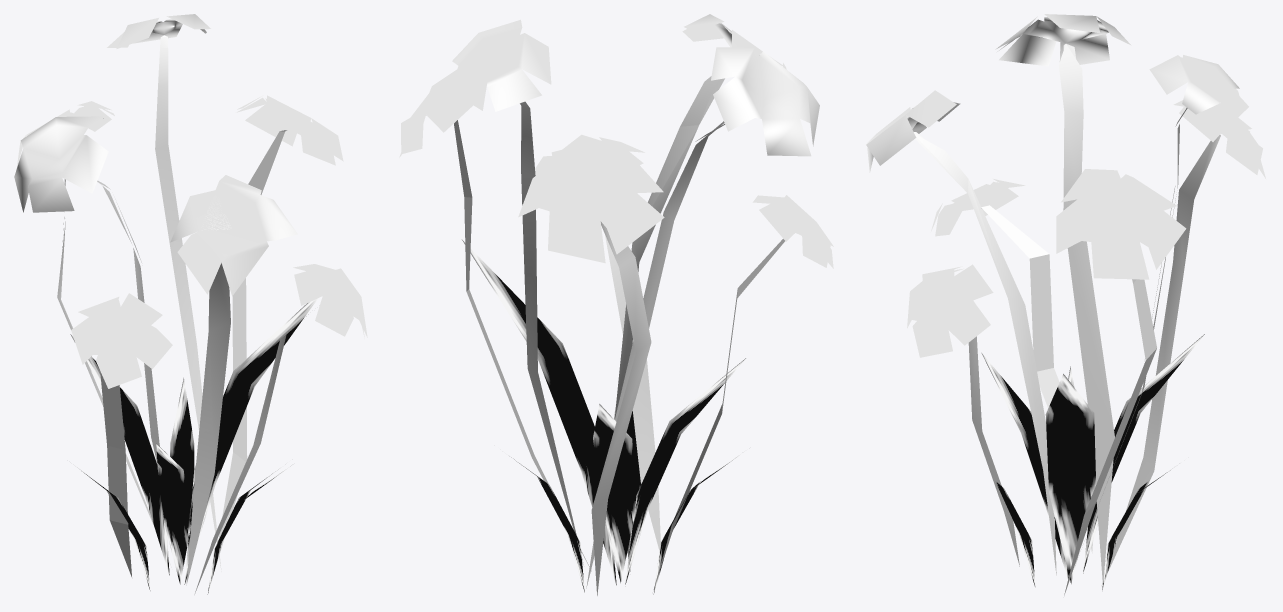
The model's file is Flowers 2,3,5.glb.
The picture shows the model from 3 angles, left to right: view 1: azimuth 30°, elevation 25°; view 2: azimuth 150°, elevation 25°; view 3: azimuth 270°, elevation 25°; orthographic projection. The views are drawn at different scales.
Parts seen in each view (by area): view 1: flower_3, flower_2, grass_tuft_b, flower_5; view 2: flower_3, flower_5, grass_tuft_b, flower_2; view 3: flower_3, flower_2, flower_5, grass_tuft_b.
Part boxes in pixels (x1,y1,x2,y2): flower_3: [14, 14, 297, 585]; flower_2: [71, 95, 343, 578]; grass_tuft_b: [70, 298, 317, 594]; flower_5: [16, 35, 367, 594]; flower_3: [450, 14, 819, 588]; flower_5: [518, 78, 724, 595]; grass_tuft_b: [462, 240, 746, 594]; flower_2: [399, 69, 833, 589]; flower_3: [866, 14, 1248, 583]; flower_2: [931, 169, 1186, 595]; flower_5: [907, 43, 1265, 585]; grass_tuft_b: [981, 334, 1204, 590].
Size of the model in its own units: 0.2124 by 0.3215 by 0.2146.
Materials: 3 (1 with a texture image).
